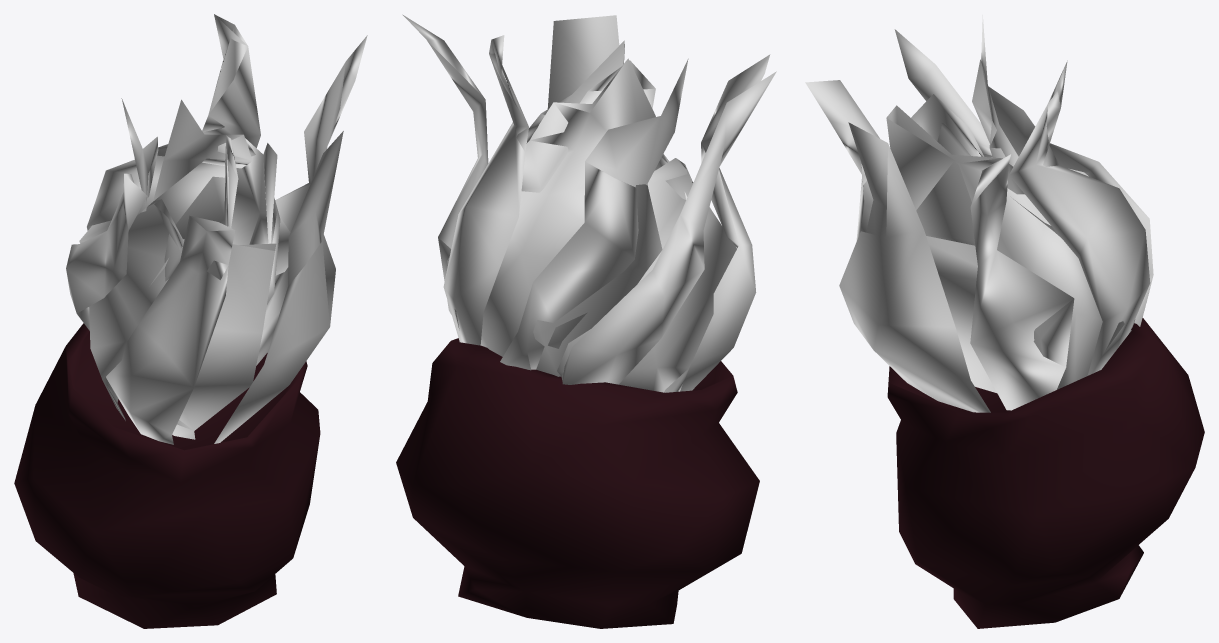
File: xsknot1.fbx
3 renders of one model, left to right at view 1: azimuth 30°, elevation 25°; view 2: azimuth 150°, elevation 25°; view 3: azimuth 270°, elevation 25°, orthographic. The views are drawn at different scales.
Parts seen in each view (by area): view 1: Plant jar; view 2: Plant jar; view 3: Plant jar.
Boxes of the visible parts, x1,y1,x2,y2 form: Plant jar: [14, 14, 367, 628]; Plant jar: [396, 14, 776, 628]; Plant jar: [805, 15, 1204, 628].
Size of the model in its own units: 0.0969 by 0.1604 by 0.103.
